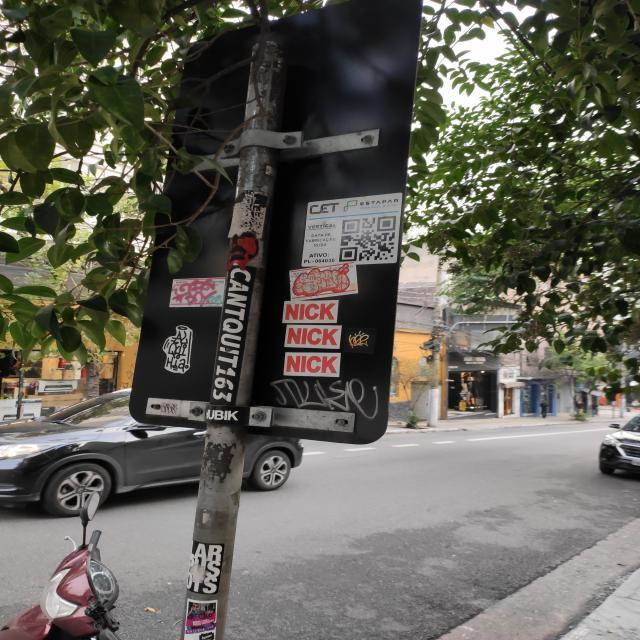qrcode: (340, 217, 397, 263)
